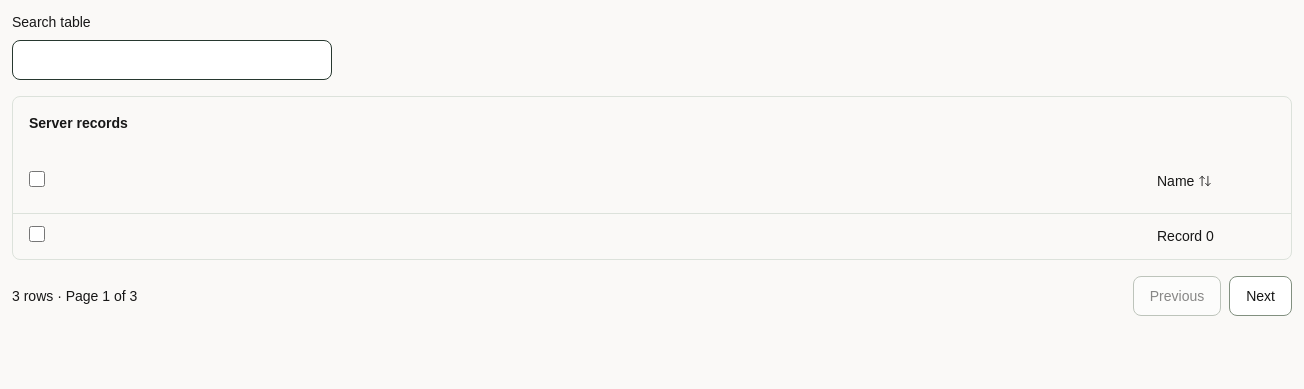
Test: retains stable selected IDs when the server page changes
What coordinates should you click on to do the following:
click the checkbox named "Select Record 0"
I would click on:
 (37, 234)
Its box is [29,226,45,242].
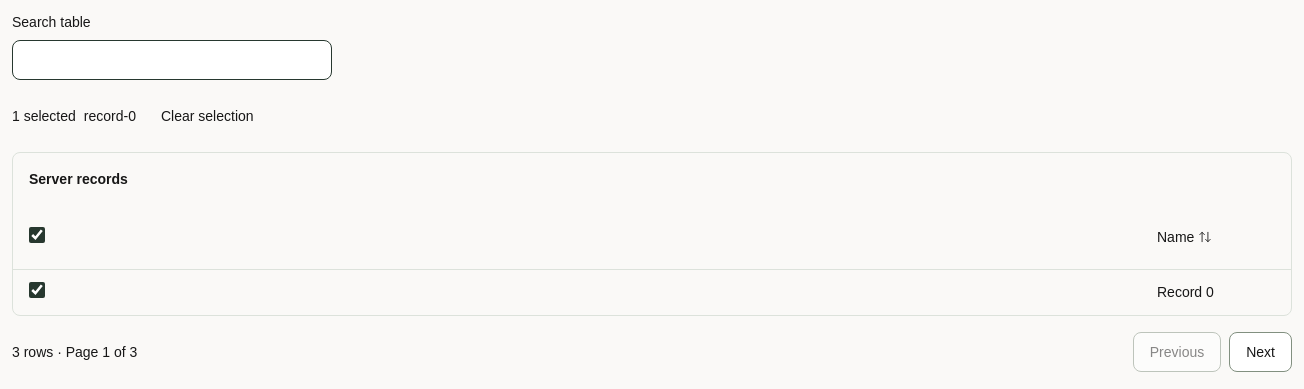
What coordinates should you click on to do the following:
click the button "Next"
I would click on:
 (1261, 352)
Its box is [1229,332,1292,372].
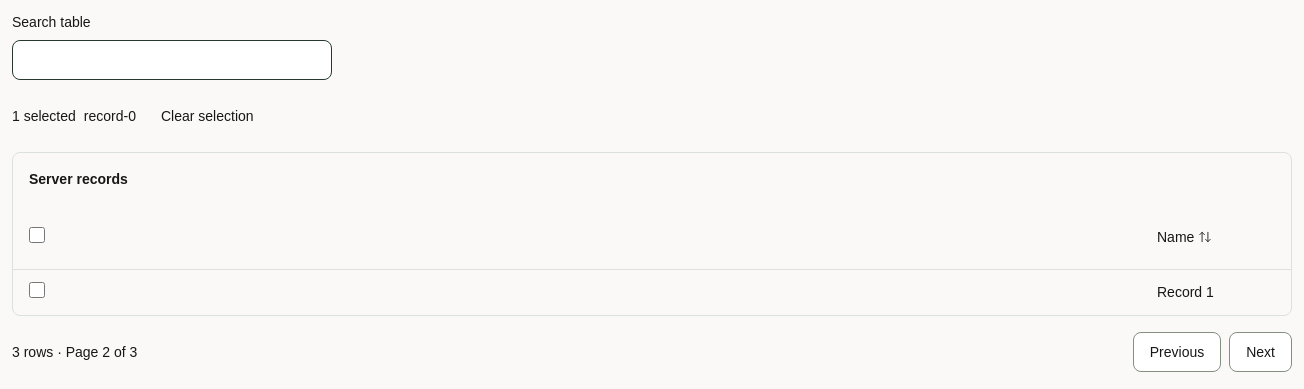
Expected: the text named "Selected IDs" reads "record-0", [84,108,136,124]
Expected: the checkbox named "Select Record 1" is not checked
What coordinates should you click on to do the following:
click the checkbox named "Select Record 1"
I would click on:
 (37, 290)
Its box is [29,282,45,298].
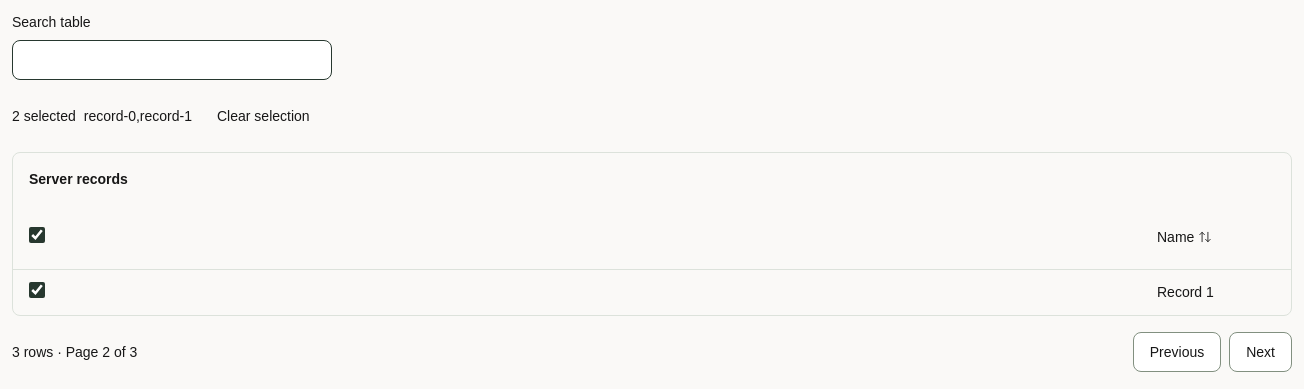
Expected: the text named "Selected IDs" reads "record-0,record-1", [84,108,192,124]
